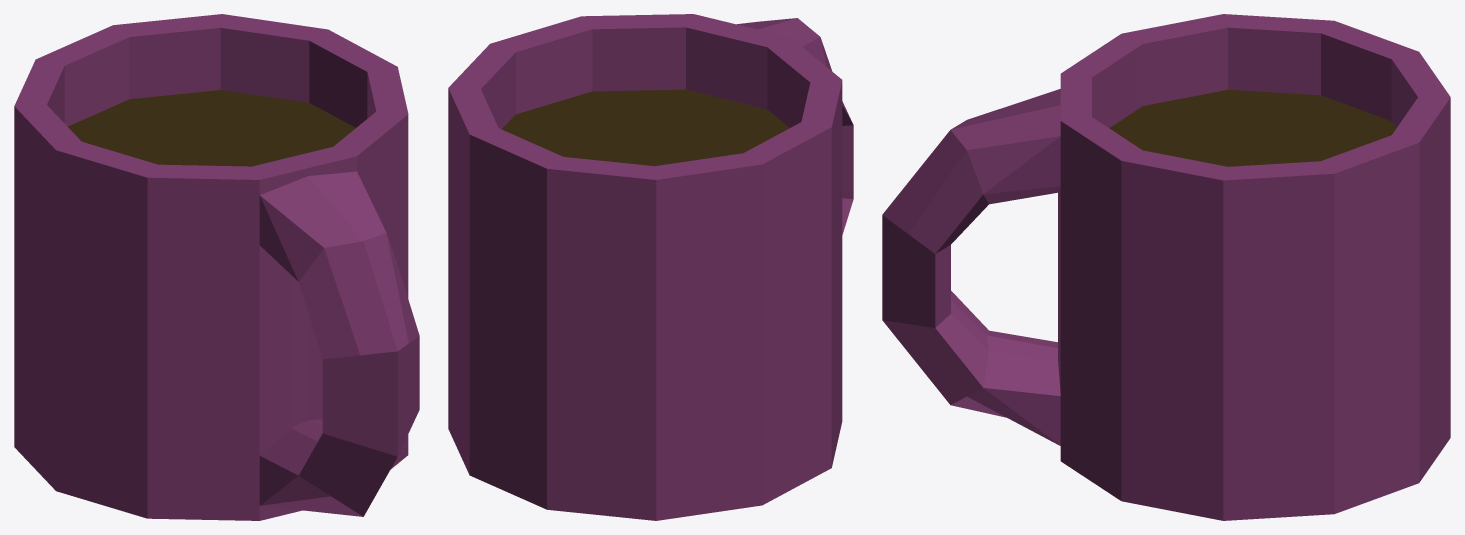
Rendered from cup.fbx.
The picture shows the model from 3 angles, left to right: view 1: azimuth 30°, elevation 25°; view 2: azimuth 150°, elevation 25°; view 3: azimuth 270°, elevation 25°; orthographic projection.
Parts seen in each view (by area): view 1: Cylinder; view 2: Cylinder; view 3: Cylinder.
Part boxes in pixels (box(x1,y1,x2,y2)): Cylinder: box(14, 14, 419, 520); Cylinder: box(448, 14, 853, 520); Cylinder: box(882, 14, 1450, 520).
Bounding box in the file's own units: 18.53 × 17.67 × 26.74.
